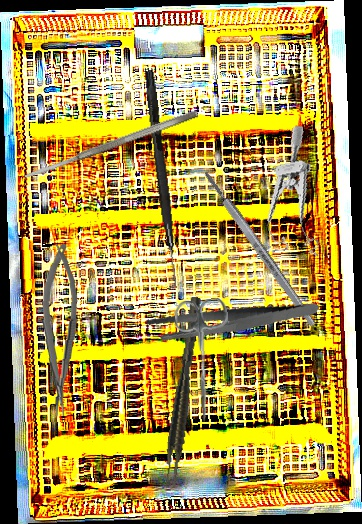Dressing Forceps: (143, 279, 320, 362)
Hook Surgical: (141, 69, 184, 289)
Iris Scissors: (173, 297, 234, 424)
Needle Holder: (36, 243, 82, 417)
Scalpel Handle: (200, 168, 319, 330)
Spatula Surgical: (21, 108, 200, 182)
Speculum: (247, 125, 330, 265)
Tissue Forceps: (160, 296, 208, 489)
